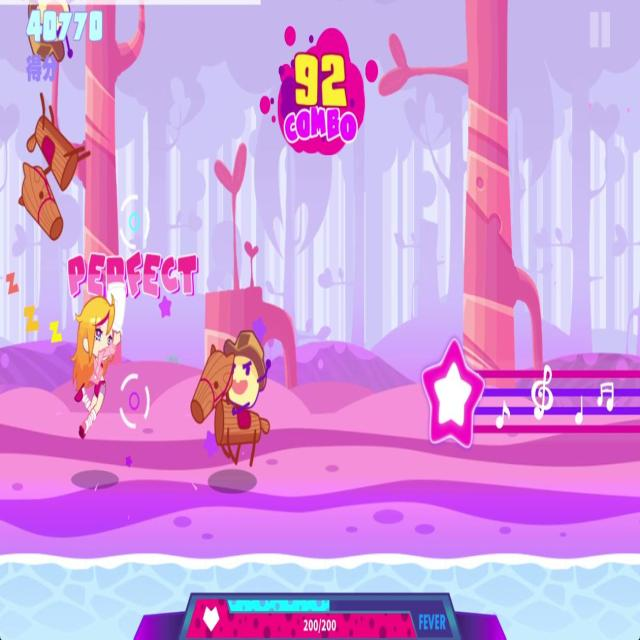hold: (419, 333, 640, 457)
qiu: (188, 322, 271, 476)
